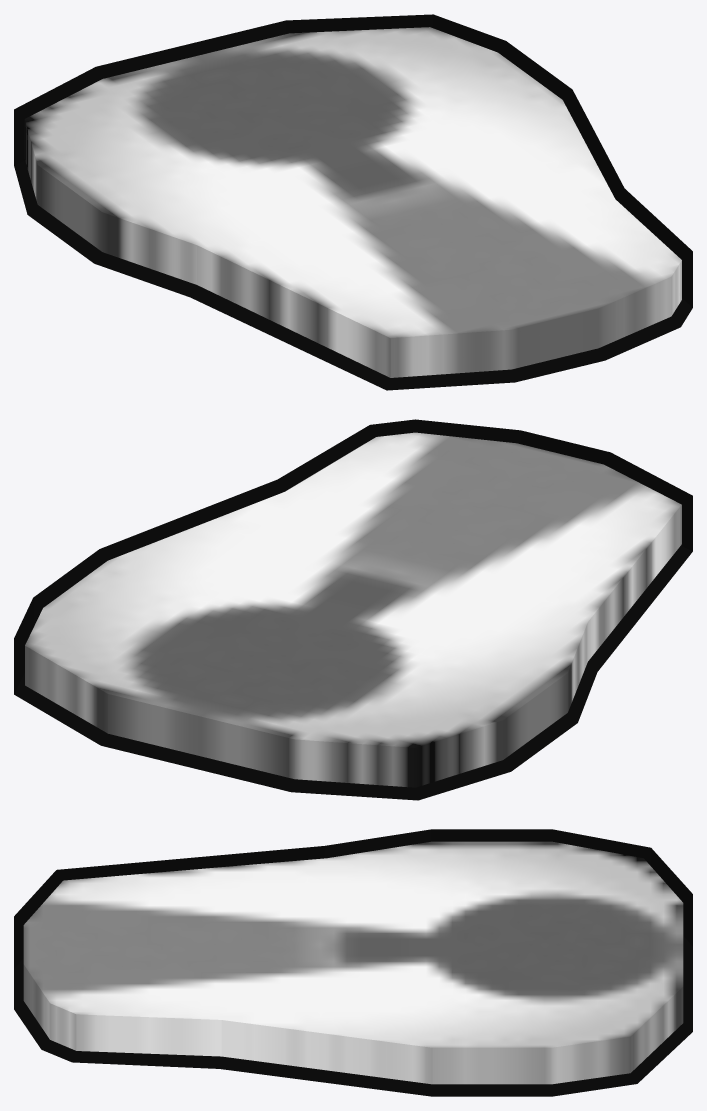
The model's file is Item_Apparel_PsyfocusShirt_Things_Pawn_Humanlike_Apparel_EltexShirt_EltexShirt.glb.
3 renders of one model, top to bottom at view 1: azimuth 30°, elevation 25°; view 2: azimuth 150°, elevation 25°; view 3: azimuth 270°, elevation 25°, orthographic. The views are drawn at different scales.
Visible parts, largest first — view 1: Body, Outline; view 2: Body, Outline; view 3: Body, Outline.
Part boxes in pixels (<box>): Body: <box>24,27,681,377</box>; Outline: <box>14,14,692,390</box>; Body: <box>25,432,681,787</box>; Outline: <box>14,419,692,800</box>; Body: <box>23,841,683,1084</box>; Outline: <box>14,829,692,1096</box>.
Bounding box in the file's own units: 0.601 × 0.0707 × 0.8041.
Materials: 2 (1 with a texture image).
